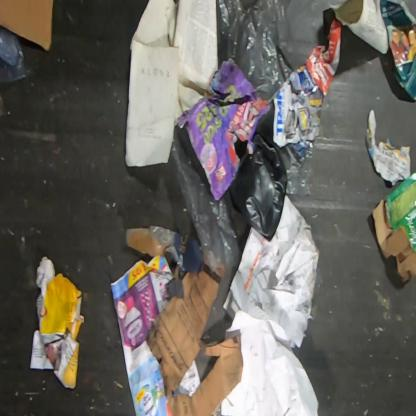cardboard: (150, 273, 244, 416), (30, 256, 85, 388), (369, 167, 415, 287), (126, 224, 207, 281), (0, 0, 54, 52)
rigid_plastic: (230, 138, 288, 242), (0, 27, 32, 84)
soft_plastic: (170, 124, 251, 276), (216, 1, 298, 100), (278, 145, 319, 198)
